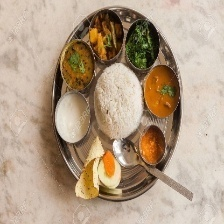rice: (90, 60, 147, 141)
